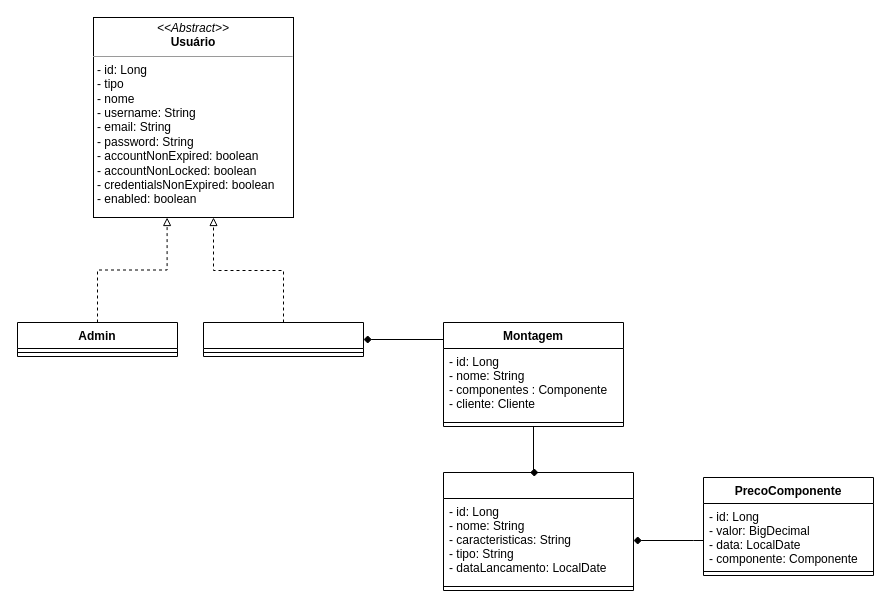
This 891x608 diagram has some shape labels left out. Here are the shapes that lost their labels. From the top down, the box of each, then its label:
(202, 322, 364, 356): Cliente
(442, 472, 634, 590): Componente
